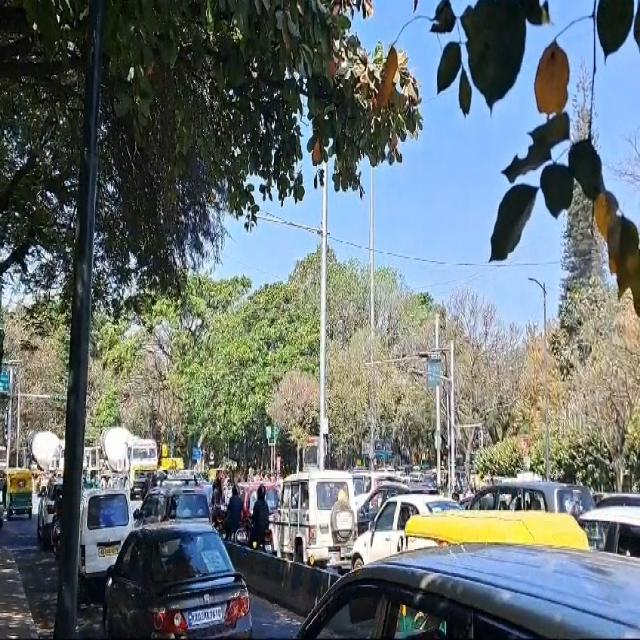cars: (104, 523, 255, 640), (272, 471, 357, 569), (353, 496, 458, 568), (75, 487, 136, 586)
